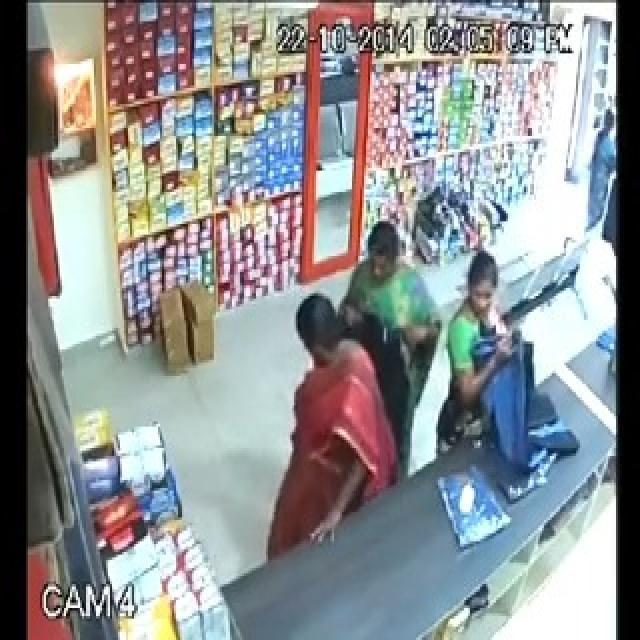normal: (233, 265, 407, 584), (428, 239, 590, 492), (340, 195, 450, 506)
